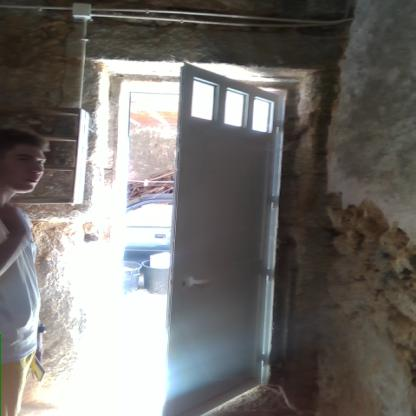semi: (61, 42, 305, 414)
